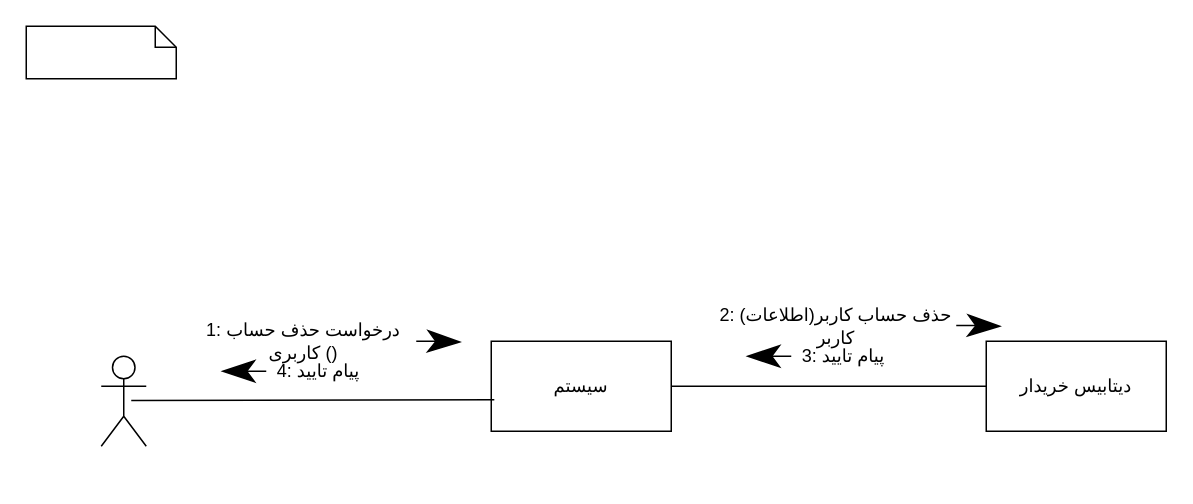
This 1193x504 diagram has some shape labels left out. The shapes that lost their labels are listed below. From the top down, each one's centre as x and y in pixels, then its label:
At [100,52]: "sign out".
At [123,400]: "خریدار".
